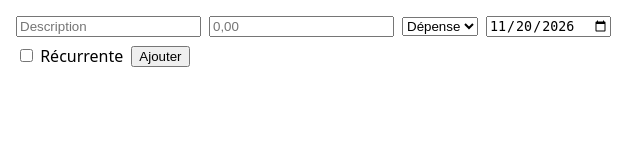
TransactionForm › affiche une erreur si la description est vide
In the field named "Montant": [302, 27] box top-left (209, 16), bottom-right (394, 37), type "12"
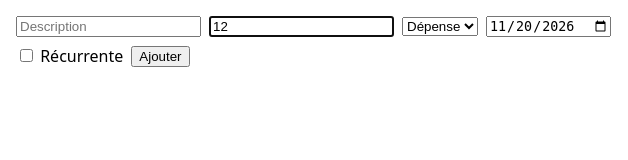
Click the button "Ajouter": [160, 56] box top-left (131, 46), bottom-right (190, 67)
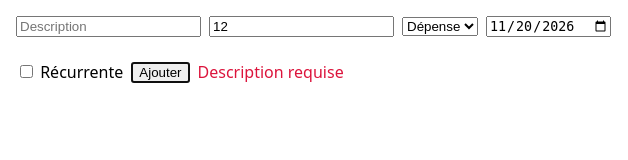
Now the text "Description requise" is shown, box top-left (198, 61), bottom-right (344, 83)
